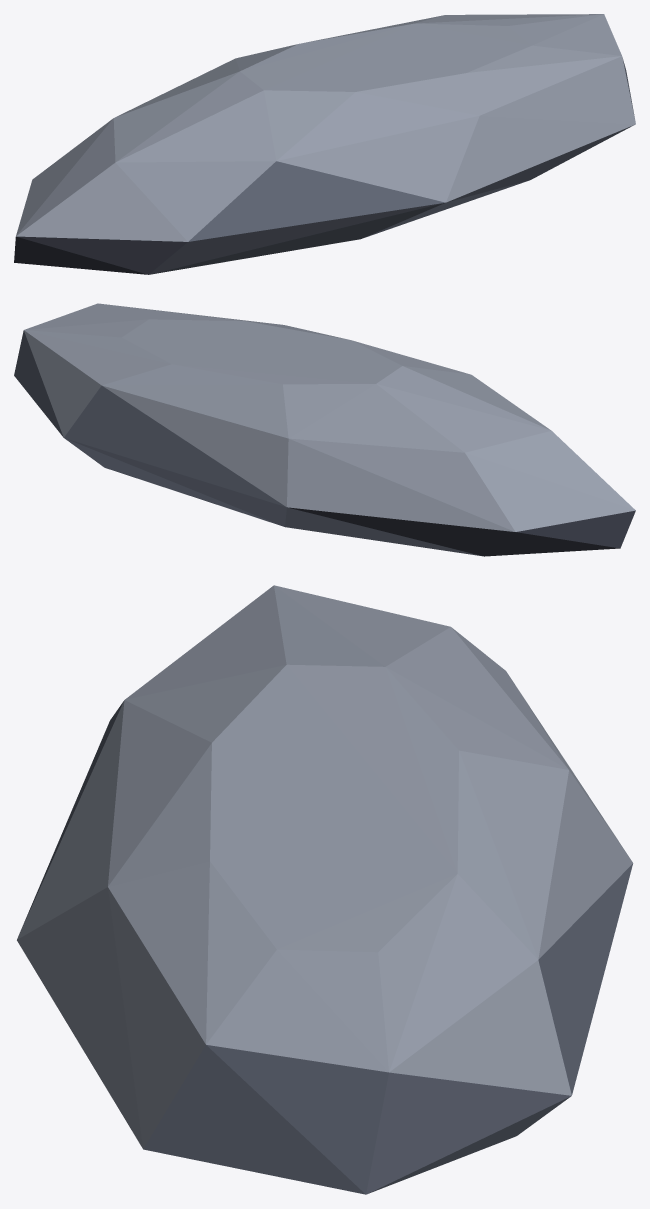
Rendered from TW_ROCK_FLAT_SLAB_B_LOD0.glb.
3 views of the same model, one above another, from view 1: azimuth 30°, elevation 25°; view 2: azimuth 150°, elevation 25°; view 3: azimuth 270°, elevation 25° (orthographic). The views are drawn at different scales.
Parts seen in each view (by area): view 1: TW_ROCK_FLAT_SLAB_B_LOD0; view 2: TW_ROCK_FLAT_SLAB_B_LOD0; view 3: TW_ROCK_FLAT_SLAB_B_LOD0.
Boxes of the visible parts, bbox=[...] form: TW_ROCK_FLAT_SLAB_B_LOD0: bbox=[14, 14, 635, 274]; TW_ROCK_FLAT_SLAB_B_LOD0: bbox=[14, 303, 635, 556]; TW_ROCK_FLAT_SLAB_B_LOD0: bbox=[17, 585, 633, 1194].
Size of the model in its own units: 1.75 by 0.3269 by 0.7715.
1 material, 1 textured.
